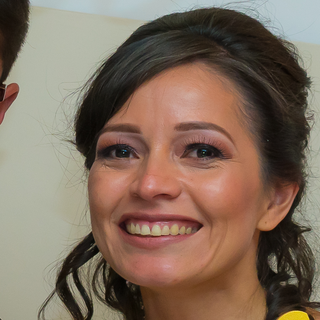eye: (173, 135, 231, 166), (97, 140, 143, 166)
